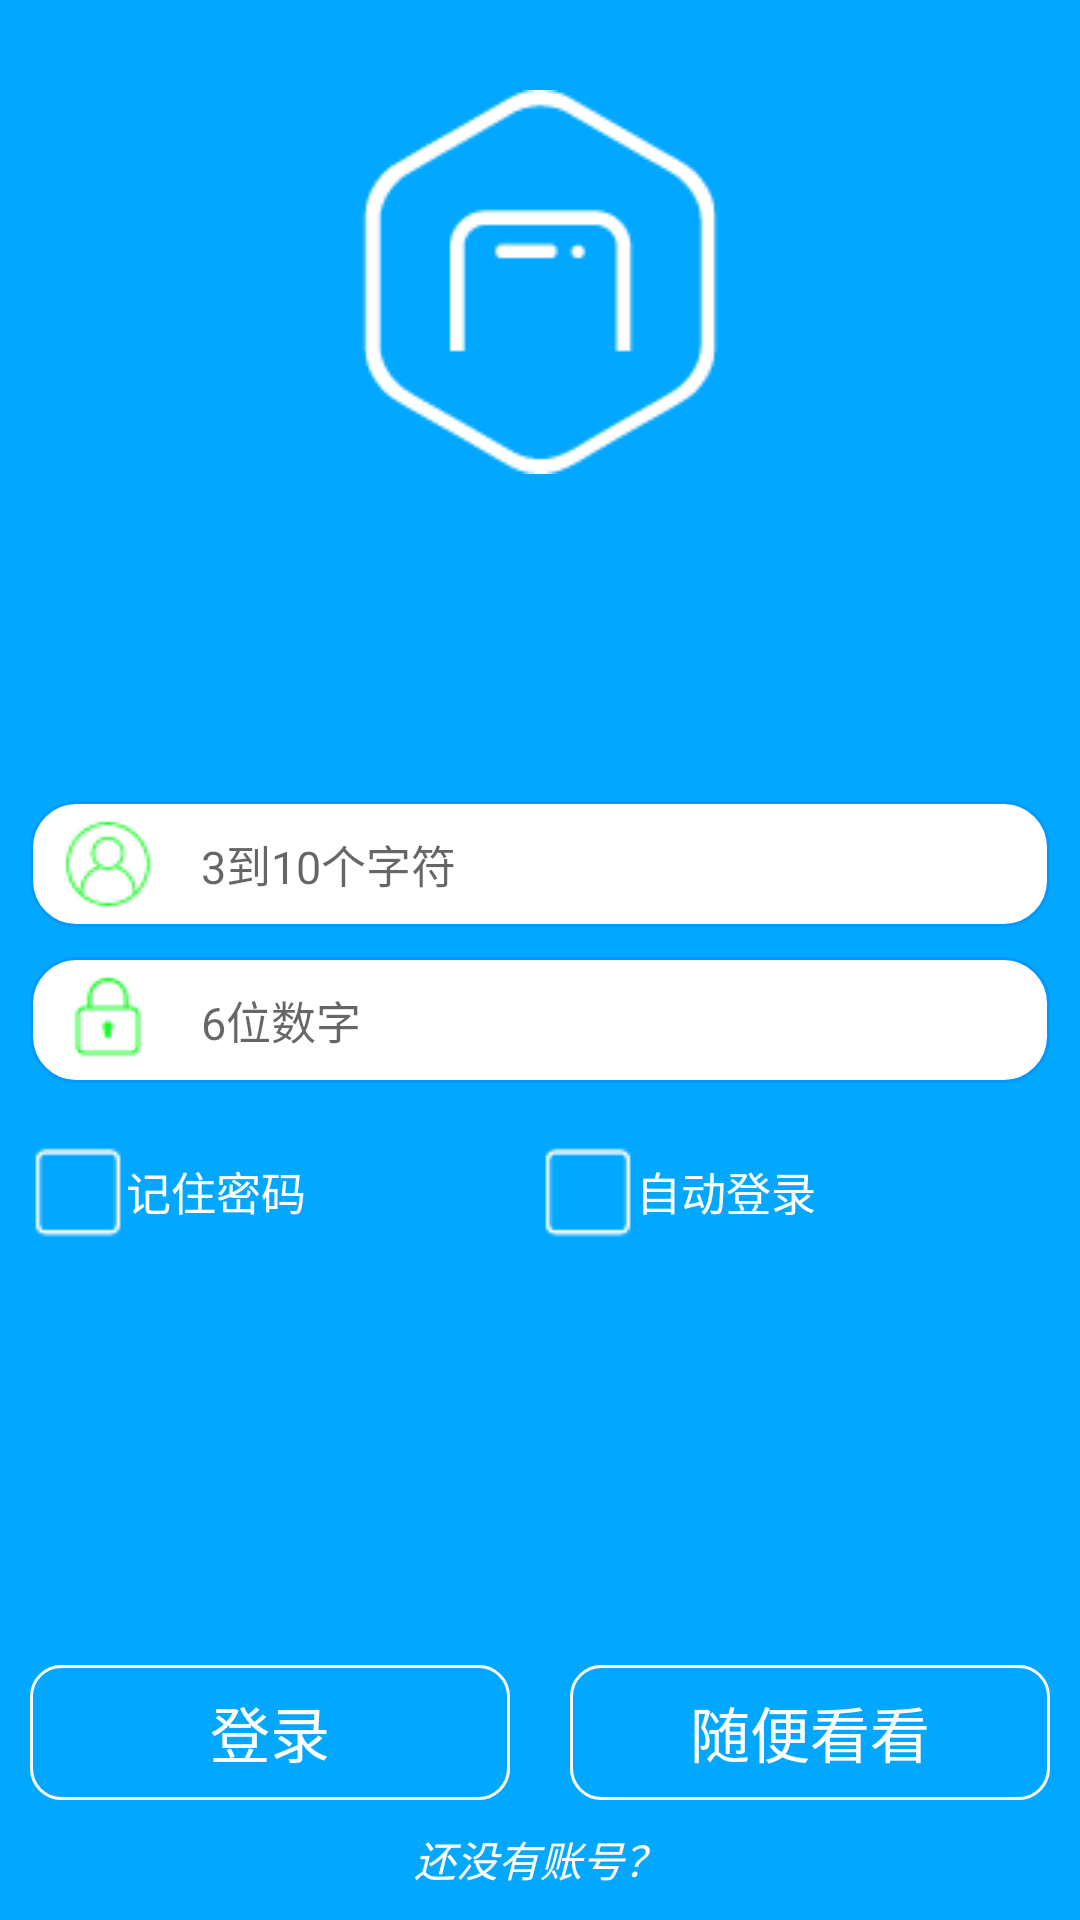

Named icons in this screenshot (1080px×1920px) and their centers, point (x, y):
login head: point (108, 864)
login pass: point (108, 1017)
